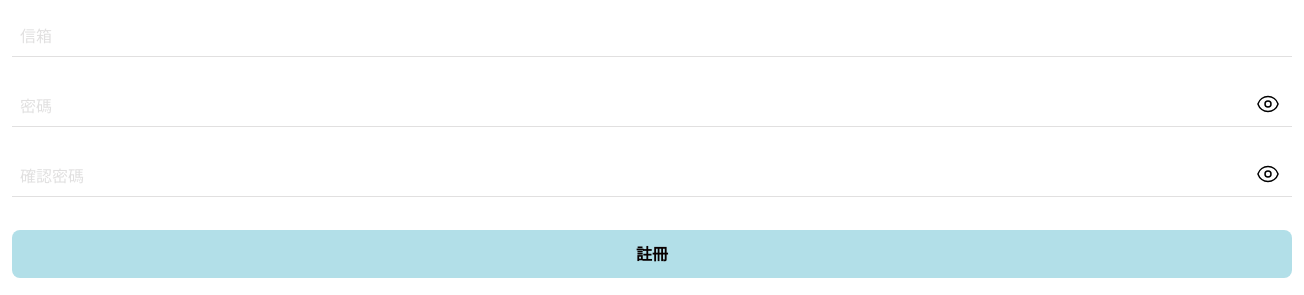
Scenario: #RegisterPanel › should show validation errors on submit
Step 1. Click the button "註冊" → {"x": 652, "y": 254}, box [12, 230, 1292, 278]
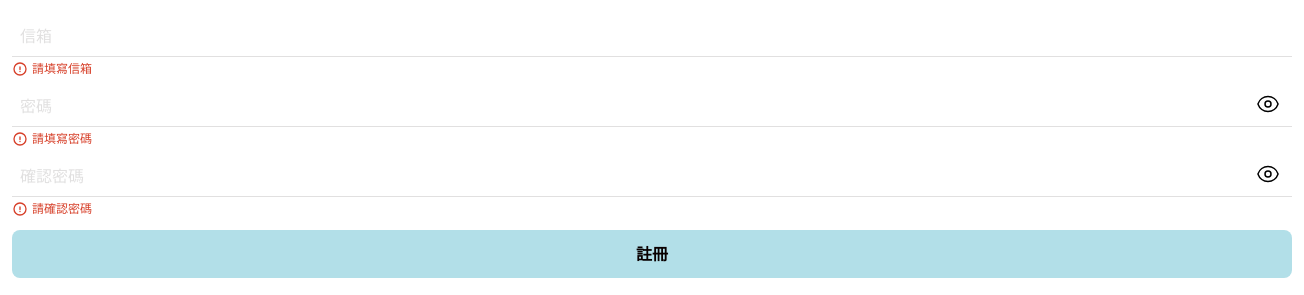
Expected: the text "請填寫信箱" is shown, [32, 61, 92, 77]
Expected: the text "請填寫密碼" is shown, [32, 131, 92, 147]
Expected: the text "請確認密碼" is shown, [32, 201, 92, 217]
